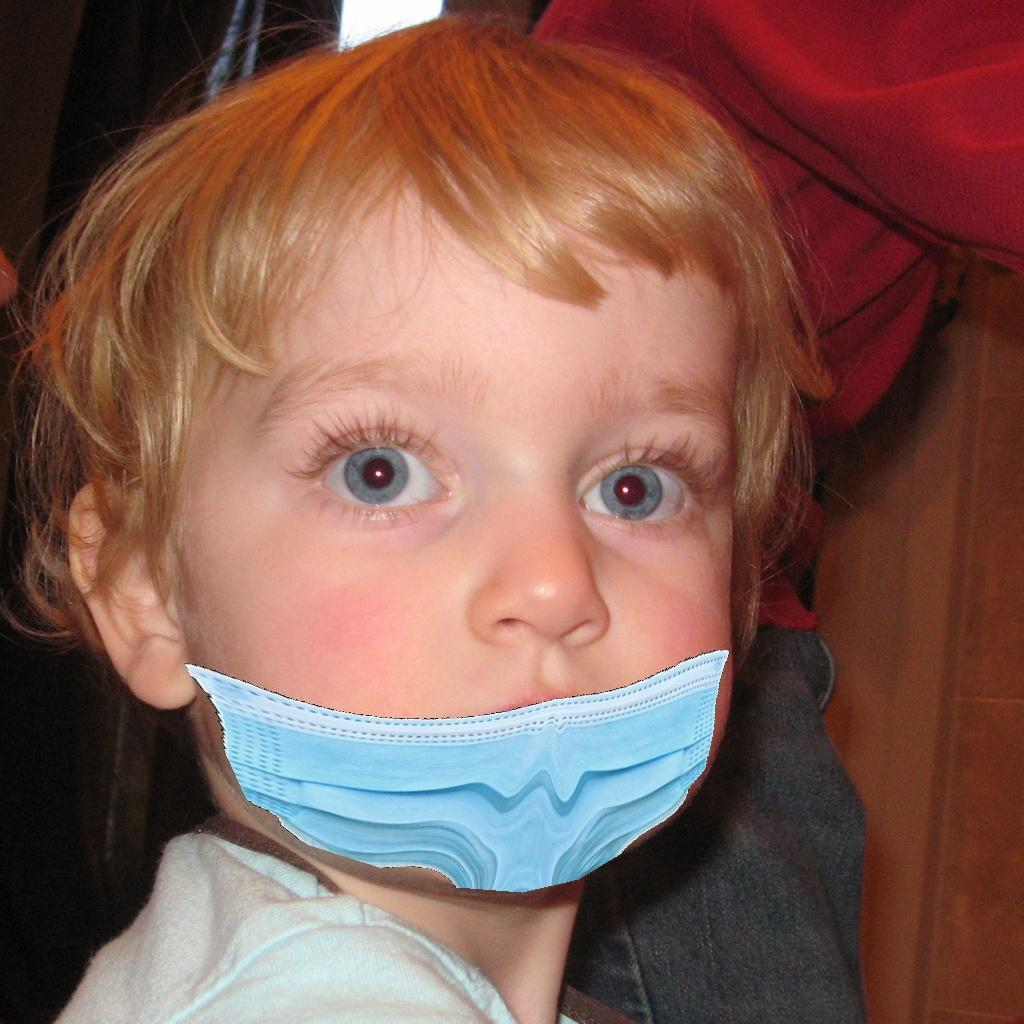Máscara Incorreta: (138, 262, 769, 881)
